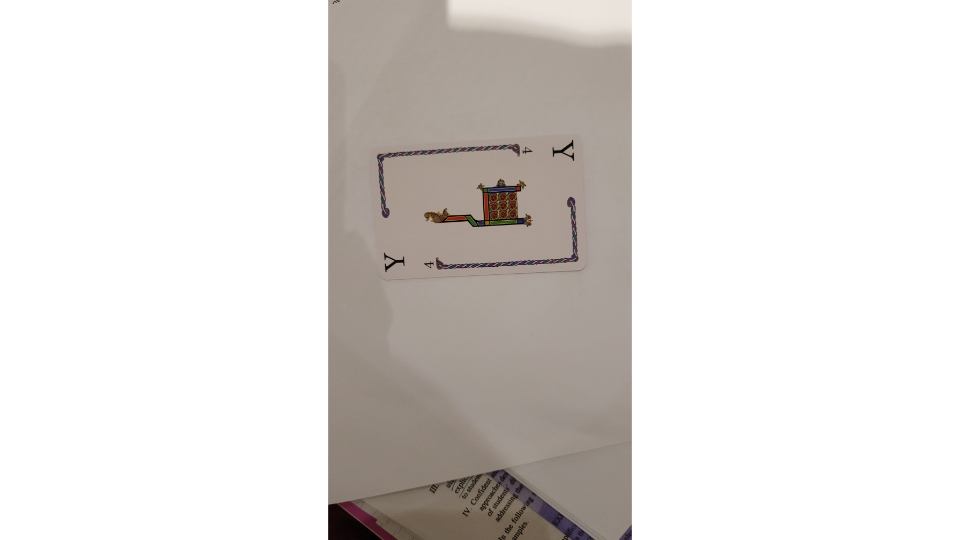Y: (369, 131, 590, 283)
